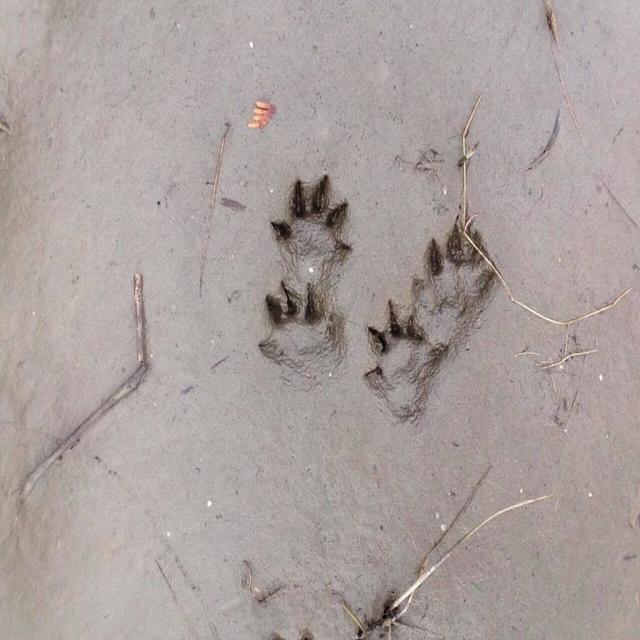mustelid: (368, 298, 448, 419), (414, 220, 501, 326), (257, 279, 344, 382), (274, 177, 357, 280)
